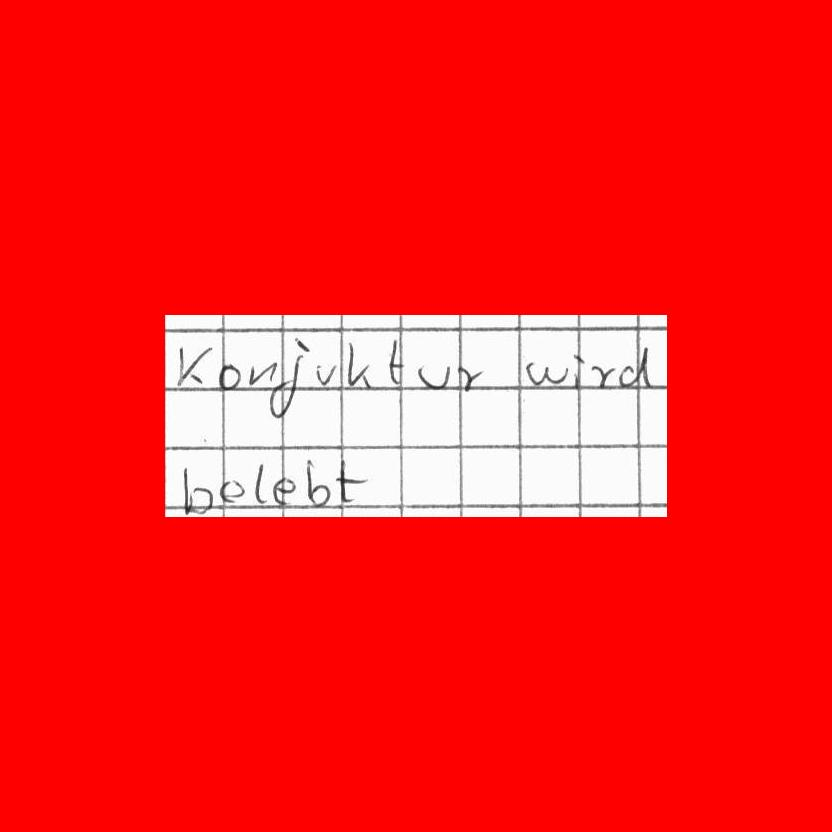Char: (267, 331, 309, 421), (174, 341, 214, 390), (179, 465, 215, 516), (616, 345, 654, 390), (335, 456, 370, 504), (302, 456, 333, 508), (345, 338, 376, 389), (519, 358, 567, 386), (386, 337, 409, 388), (415, 362, 451, 391), (455, 360, 482, 395), (217, 358, 243, 393), (271, 473, 296, 508), (246, 358, 278, 385), (251, 460, 271, 503), (567, 347, 585, 390), (217, 478, 244, 505), (312, 360, 339, 386), (590, 362, 615, 390)
